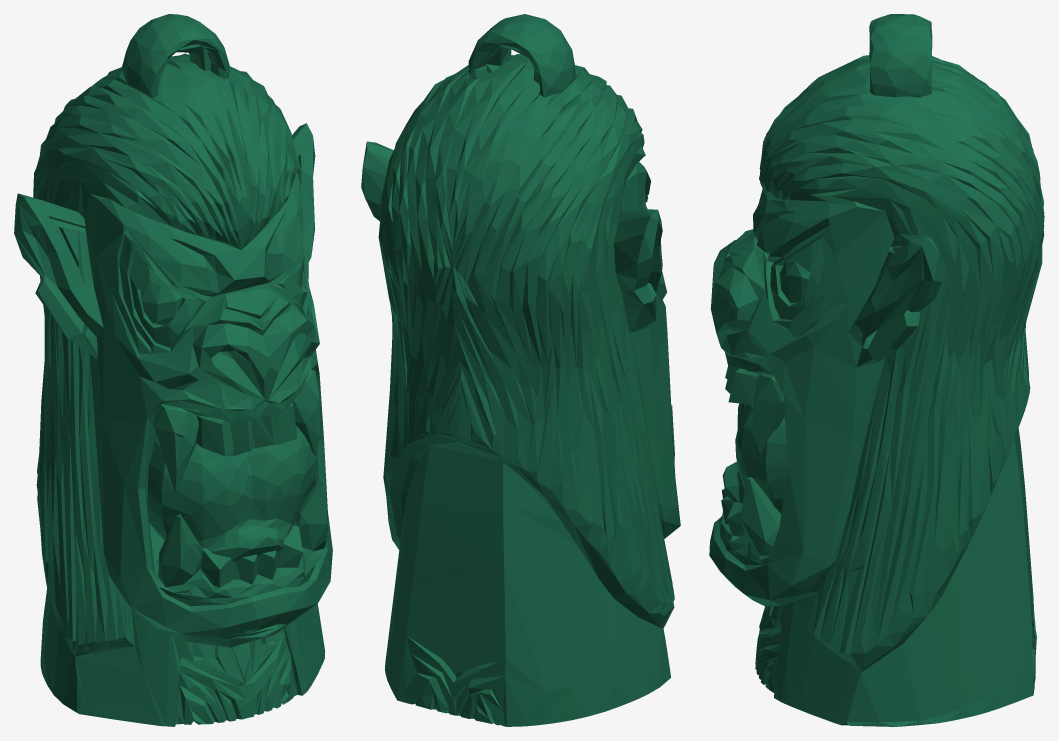
Rendered from chaveiro-carranca.glb.
3 views of the same model, side by side, from view 1: azimuth 30°, elevation 25°; view 2: azimuth 150°, elevation 25°; view 3: azimuth 270°, elevation 25° (orthographic).
Visible parts, largest first — view 1: carranca; view 2: carranca; view 3: carranca.
Part boxes in pixels (bbox=[...]): carranca: bbox=[14, 14, 332, 726]; carranca: bbox=[361, 14, 680, 726]; carranca: bbox=[709, 14, 1044, 726].
Bounding box in the file's own units: 0.2075 × 0.4382 × 0.2052.
